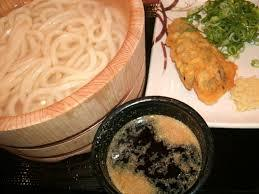kamaage: (1, 1, 156, 171)
